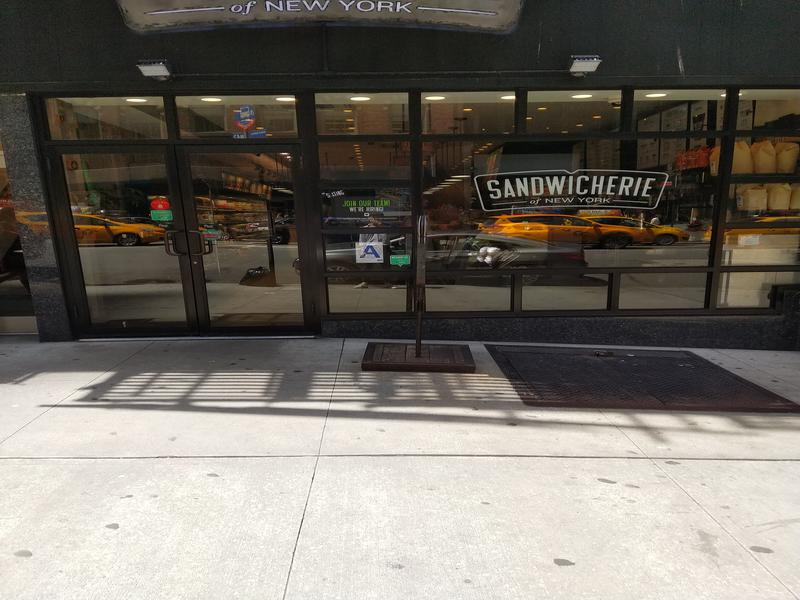double_door: (47, 136, 320, 337)
